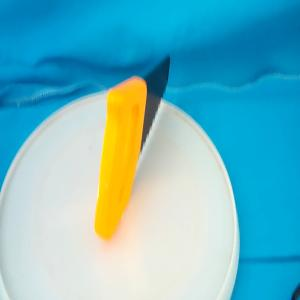serrote: (94, 53, 170, 242)
